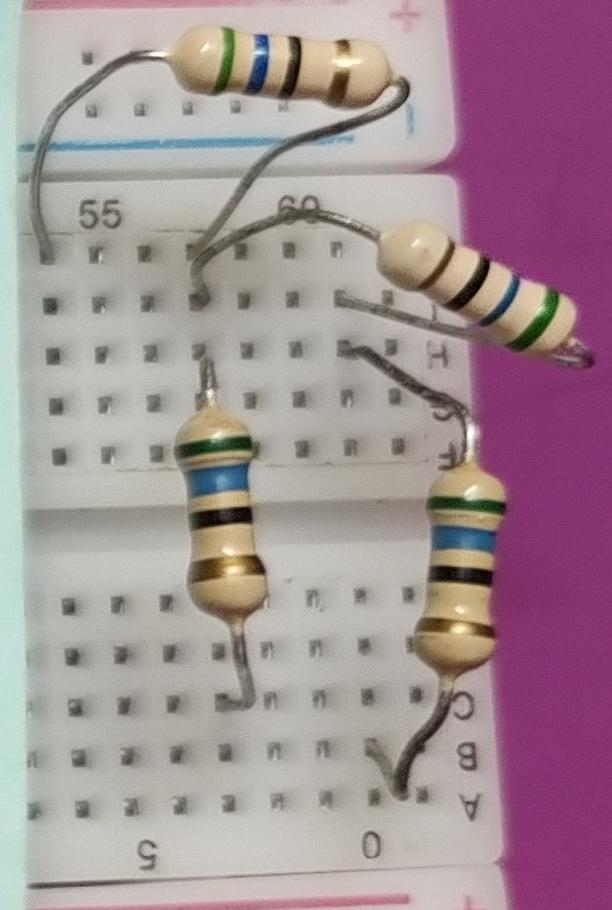resistor: (374, 207, 584, 379), (162, 13, 409, 115), (170, 397, 275, 635), (407, 452, 516, 681)
